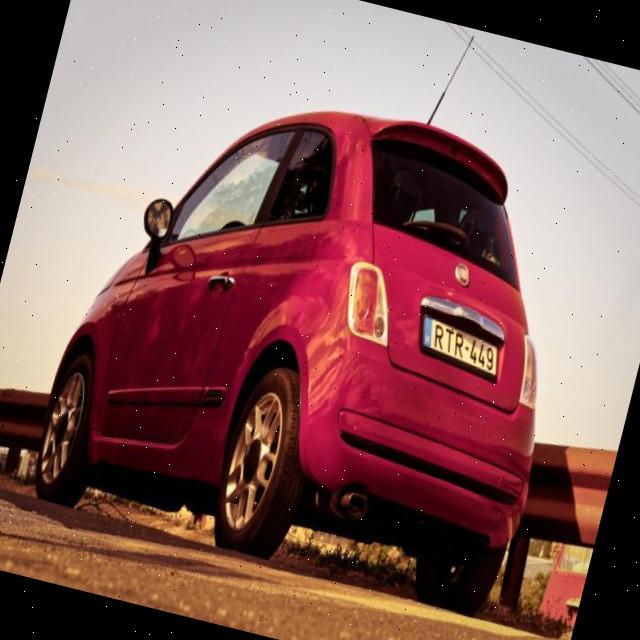licence: (413, 306, 510, 382)
